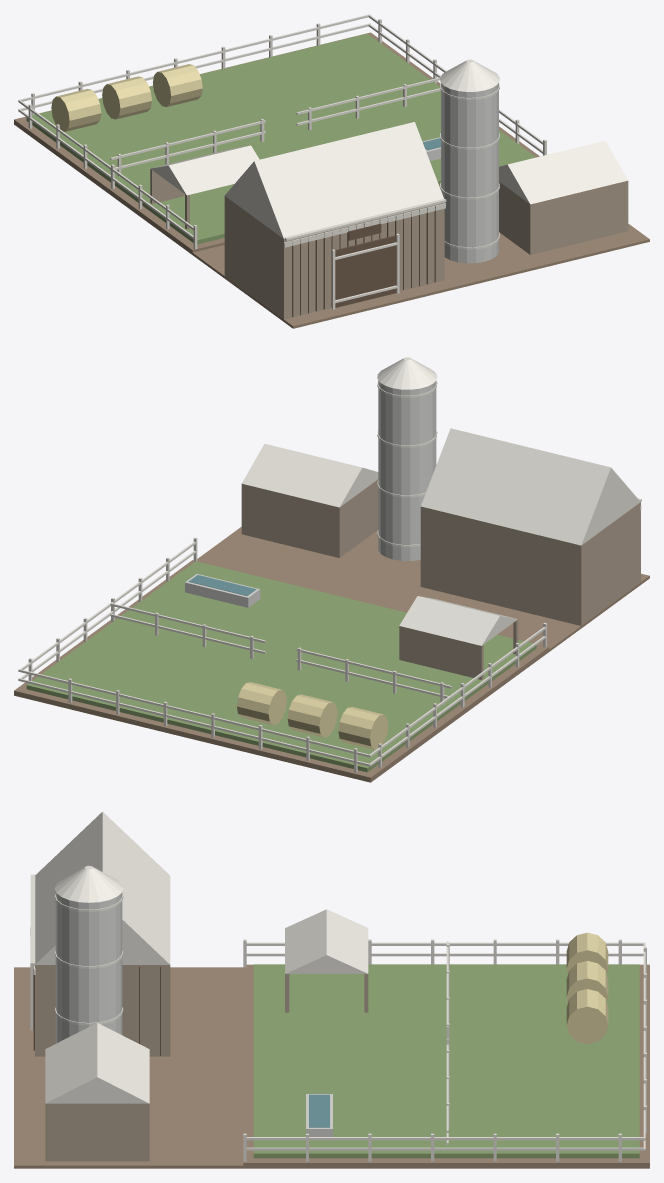
File: farm_3x4_b.glb
The picture shows the model from 3 angles, top to bottom: view 1: azimuth 30°, elevation 25°; view 2: azimuth 150°, elevation 25°; view 3: azimuth 270°, elevation 25°; orthographic projection. The views are drawn at different scales.
Visible parts, largest first — view 1: farm_3x4_b_yard; view 2: farm_3x4_b_yard; view 3: farm_3x4_b_yard.
Part boxes in pixels (x1,y1,x2,y2): farm_3x4_b_yard: [14, 14, 649, 328]; farm_3x4_b_yard: [14, 357, 649, 782]; farm_3x4_b_yard: [14, 811, 649, 1168].
Bounding box in the file's own units: 22.5 × 11.6 × 30.5.
